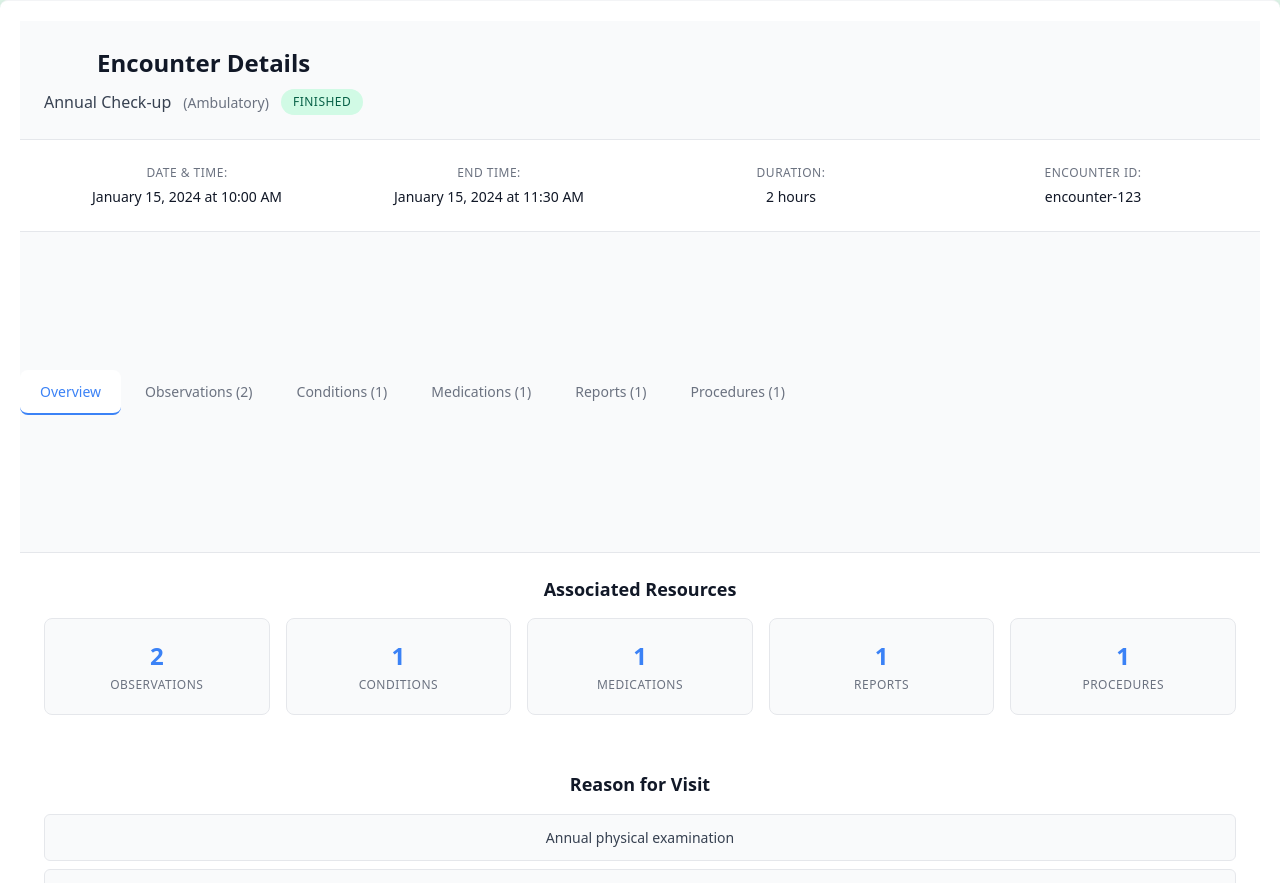
EncounterDetails Integration › displays diagnostic report with results and conclusion
# Navigate to reports tab
Step 1. Click the button "Reports (1)" → [611, 392], box [555,370,666,414]
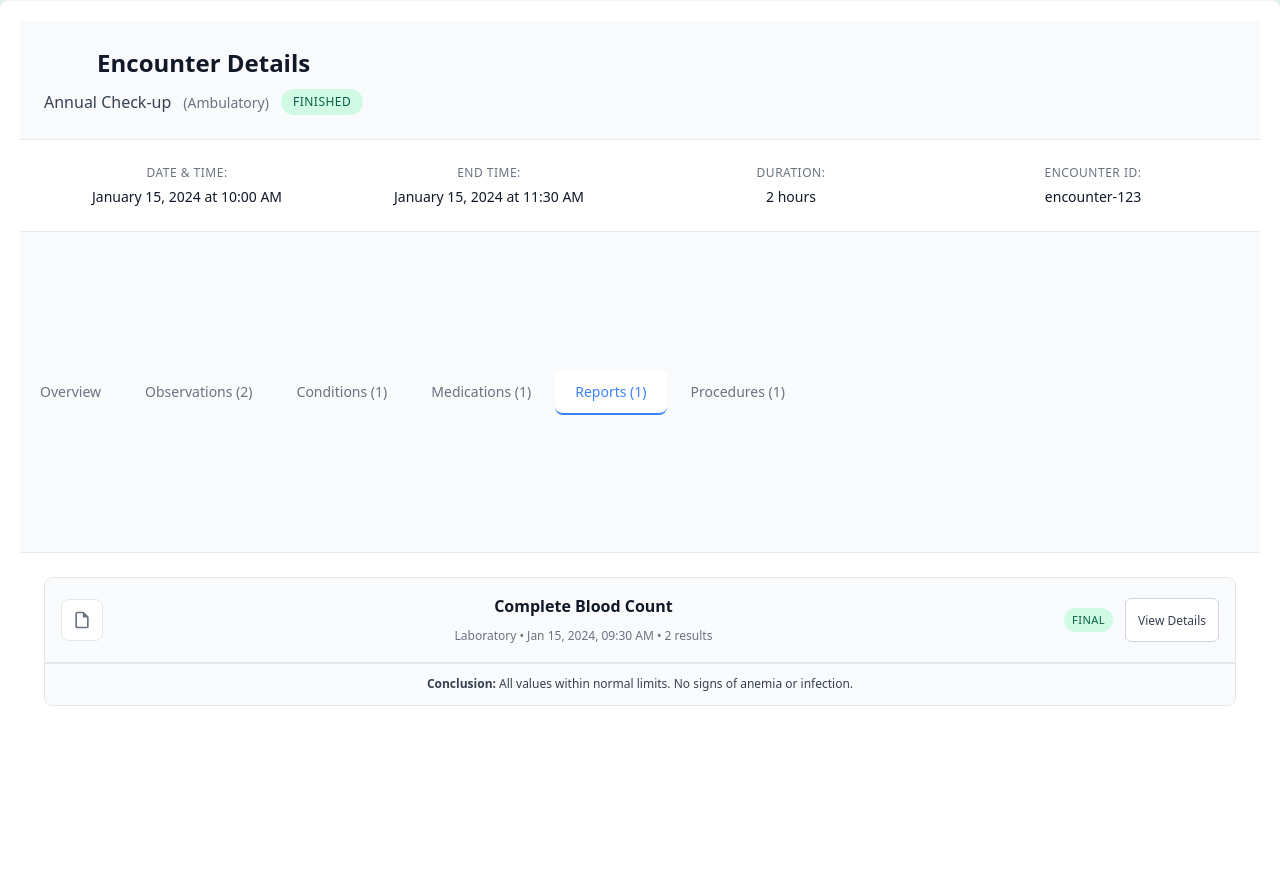
Check: the heading "Complete Blood Count" is shown, box [494,595,673,617]
# Open detailed view
Step 2. Click the button "View Details" → [1172, 620], box [1125,598,1219,642]
(page scrolled)
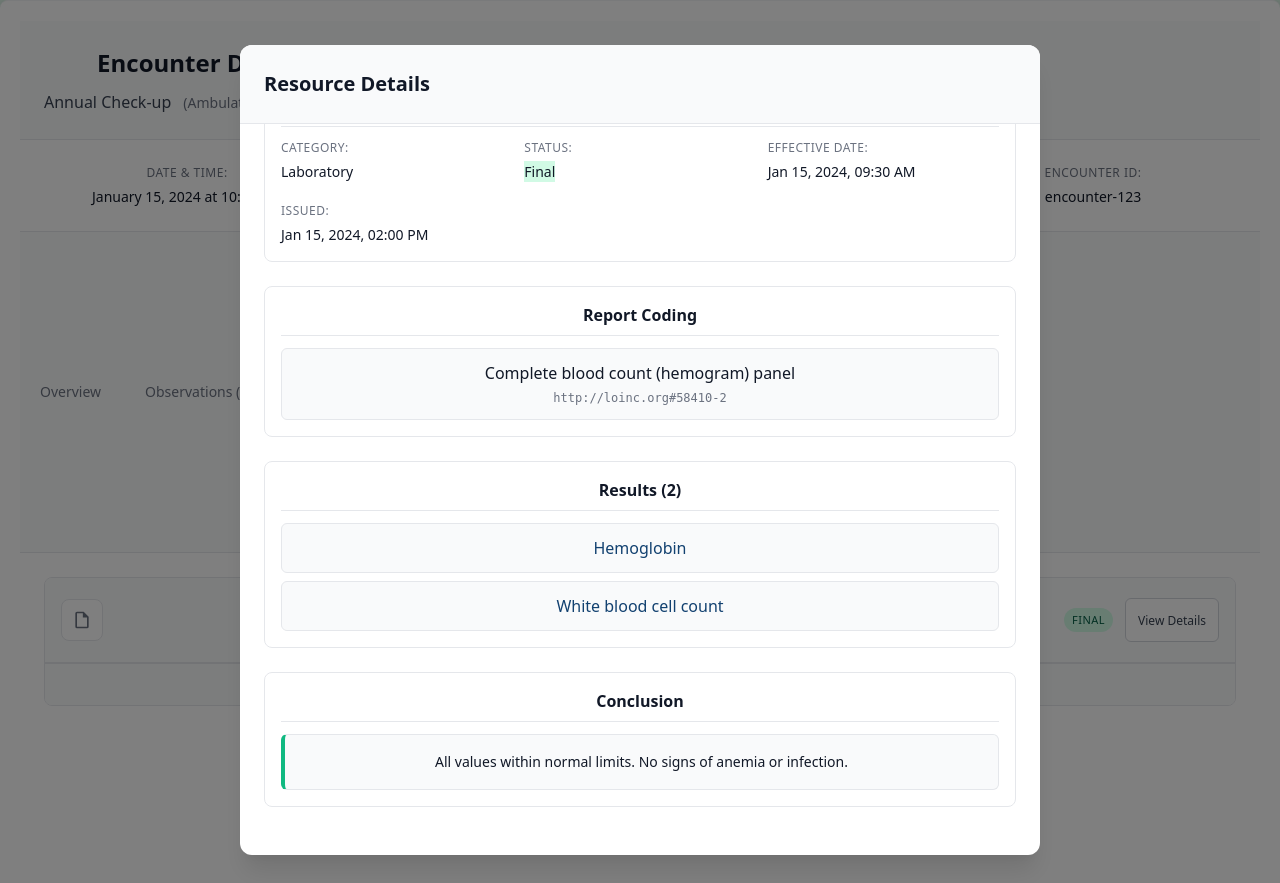
Check: the text "All values within normal limits. No signs of anemia or infection." is shown 3 times
Check: the heading "Resource Details" is shown, box [264,69,430,99]
Check: the heading "Conclusion" is shown, box [281,688,999,722]
